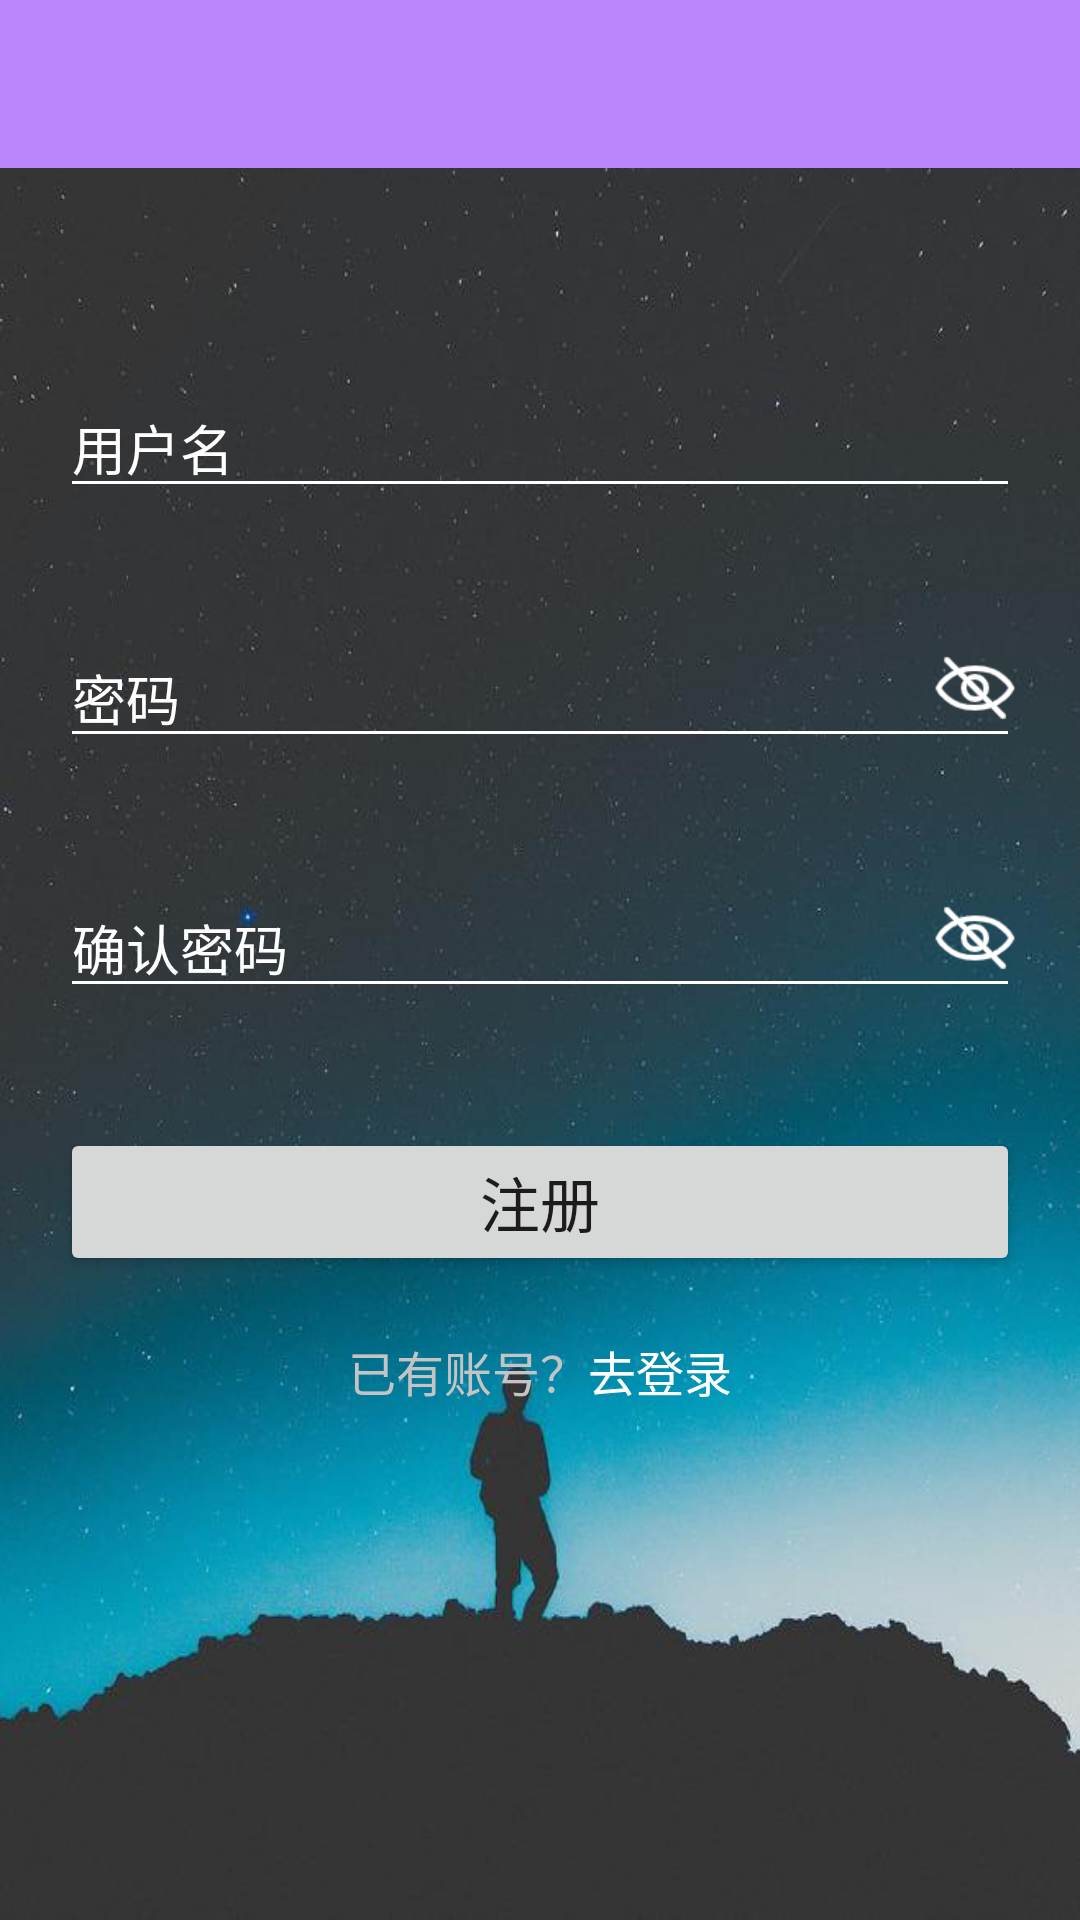

Named icons in this screenshot (1080*1920) and their bounding boxes, (x1, y1, x2, y2):
pwd hide: (935, 657, 1018, 729), (935, 893, 1020, 969)
